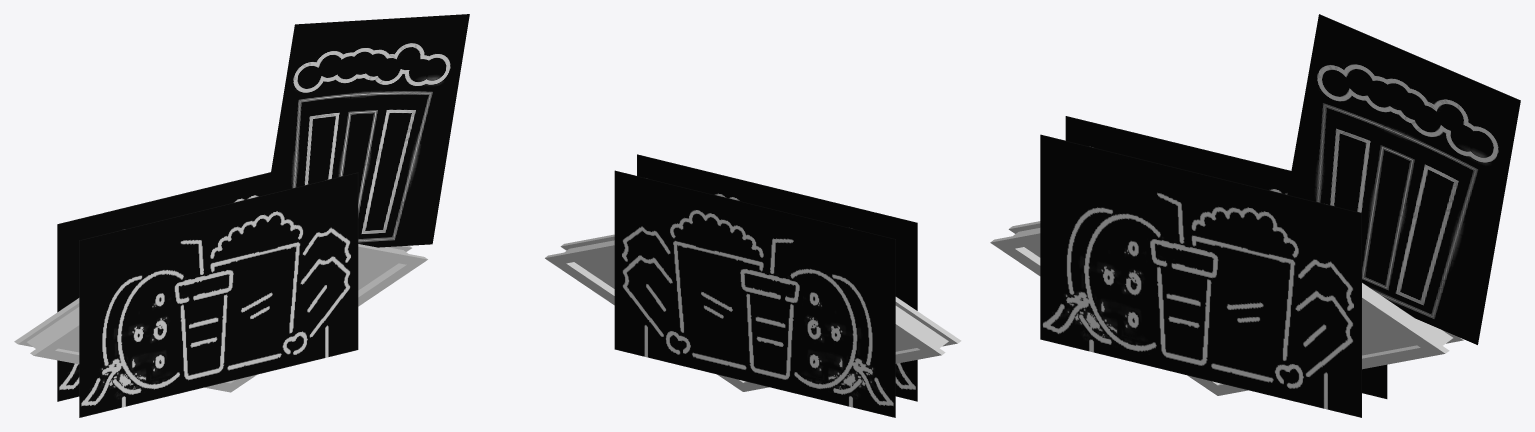
File: SM_Bud_Sign_PopCorn.FBX
3 views of the same model, side by side, from view 1: azimuth 30°, elevation 25°; view 2: azimuth 150°, elevation 25°; view 3: azimuth 330°, elevation 25° (orthographic). The views are drawn at different scales.
Visible parts, largest first — view 1: SM_Bud_Sign_PopCorn; view 2: SM_Bud_Sign_PopCorn; view 3: SM_Bud_Sign_PopCorn.
Part boxes in pixels (<box>): SM_Bud_Sign_PopCorn: <box>14,14,469,417</box>; SM_Bud_Sign_PopCorn: <box>545,154,961,417</box>; SM_Bud_Sign_PopCorn: <box>990,14,1520,417</box>.
Bounding box in the file's own units: 5.04 × 3.67 × 0.4294.
